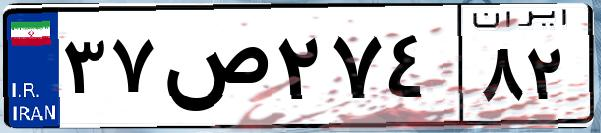2: (270, 28, 330, 110), (525, 38, 570, 115)
3: (57, 26, 110, 100)
4: (385, 28, 445, 110)
7: (330, 28, 385, 110), (110, 28, 158, 98)
8: (475, 38, 525, 113)
ص: (158, 20, 270, 120)
